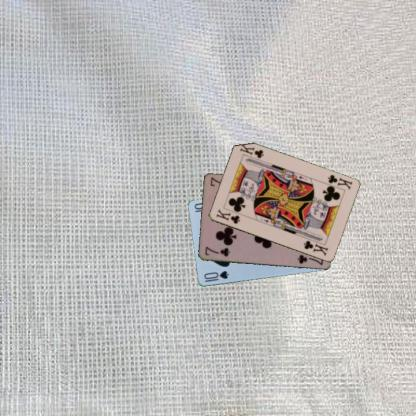10s: (201, 268, 230, 283)
7c: (202, 244, 231, 258)
Kc: (325, 172, 353, 191), (213, 207, 241, 225)
